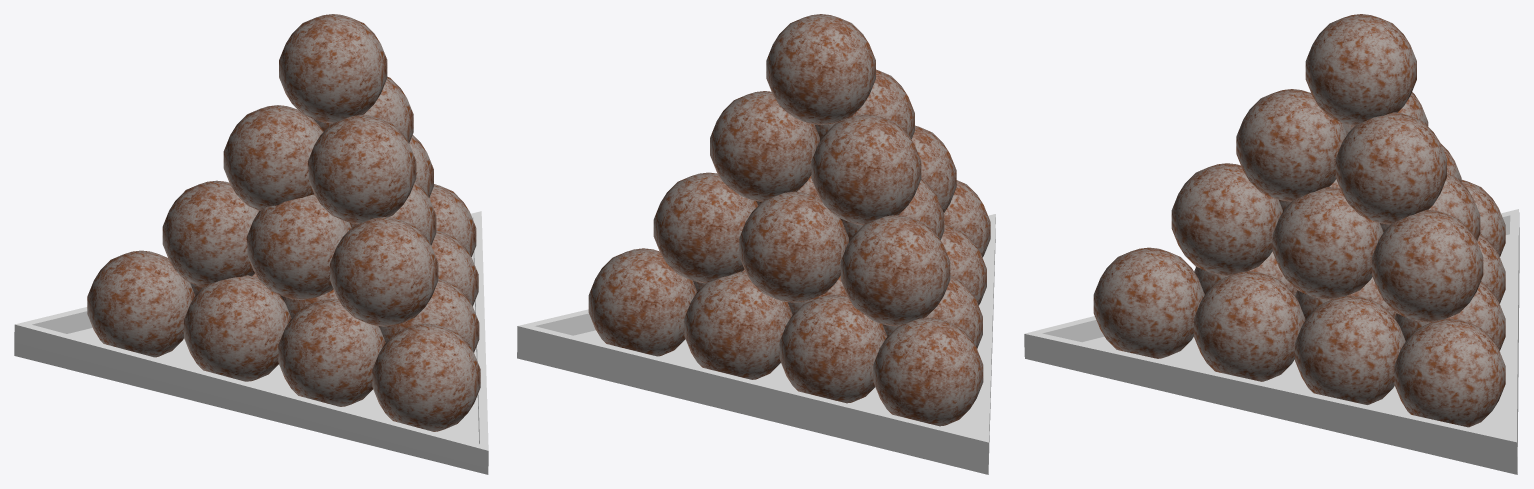
The model's file is Ammunition_BasicGroundPlate_All.fbx.
3 views of the same model, side by side, from view 1: azimuth 30°, elevation 25°; view 2: azimuth 150°, elevation 25°; view 3: azimuth 270°, elevation 25° (orthographic). The views are drawn at different scales.
Parts seen in each view (by area): view 1: CanonBall.039; view 2: CanonBall.039; view 3: CanonBall.039.
Boxes of the visible parts, x1,y1,x2,y2 form: CanonBall.039: (14, 14, 488, 474); CanonBall.039: (517, 14, 995, 474); CanonBall.039: (1024, 14, 1519, 474).
Bounding box in the file's own units: 978 × 670 × 875.
